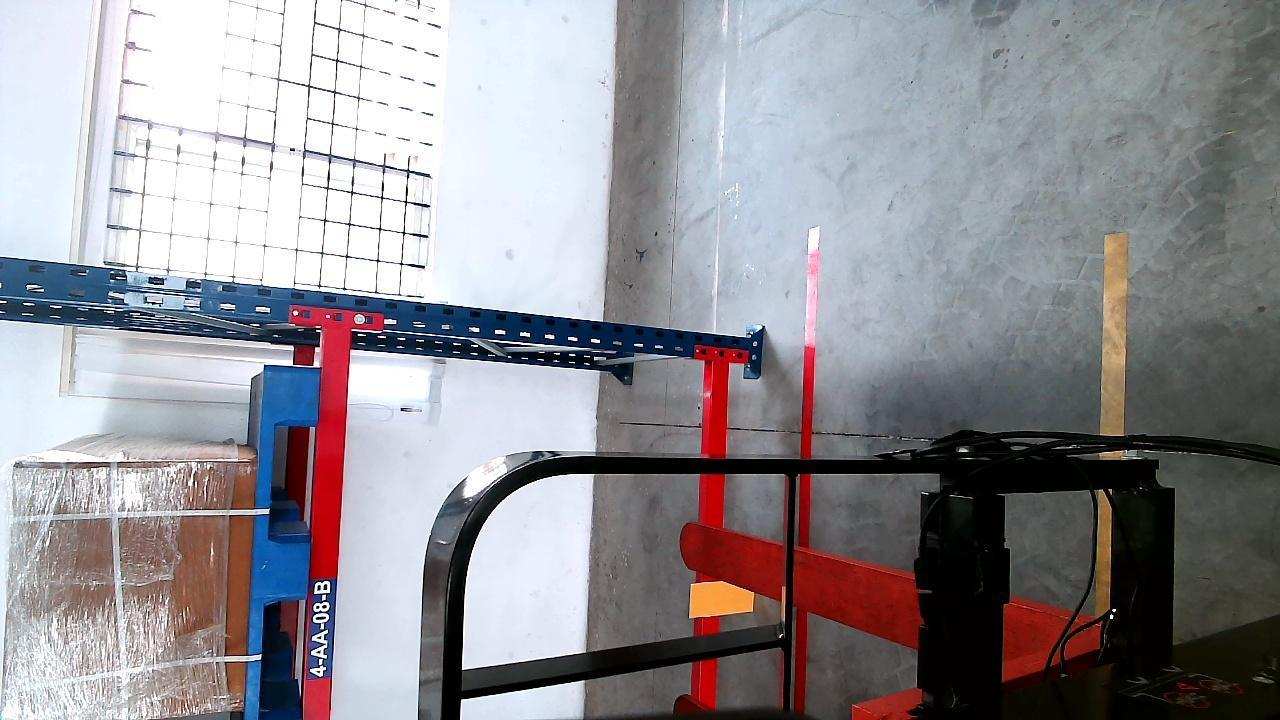h_rack: (305, 328, 354, 720), (695, 359, 728, 707)
orange_strip: (690, 581, 755, 616)
red_line: (787, 225, 822, 719)
small_pallet: (244, 364, 323, 720)
yellow_line: (1101, 227, 1125, 437)
